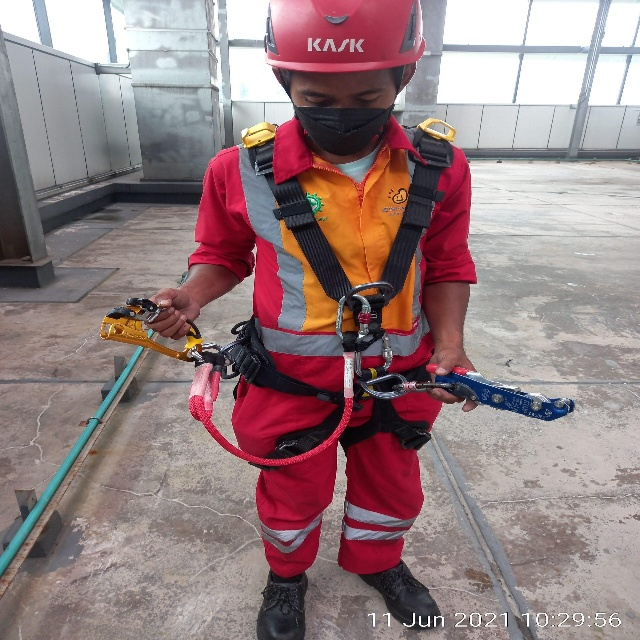Arnes_seguridad: (239, 118, 457, 462)
